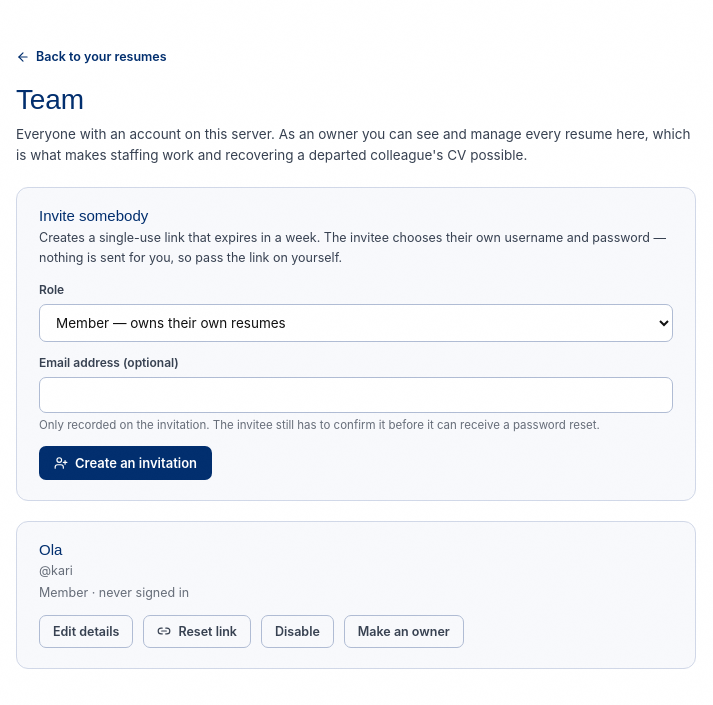
<TeamScreen> › mints a reset link and warns what holding it means
Click the button "Reset link" at (197, 631), box [144, 615, 251, 648]
(page scrolled)
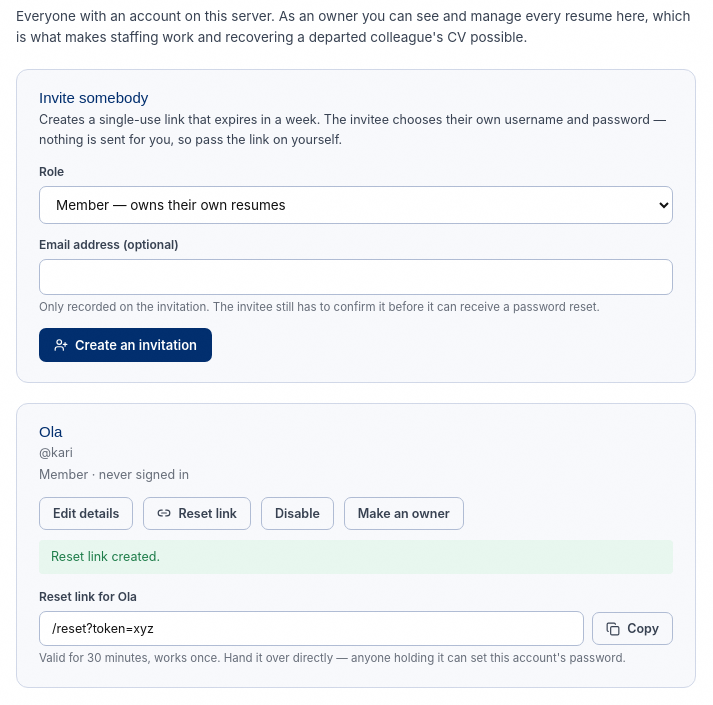
Result: the field labelled "Reset link for Ola" holds "/reset?token=xyz" at [39, 611, 584, 646]
Result: the text "anyone holding it can set this account's password" is shown at [39, 651, 626, 665]
